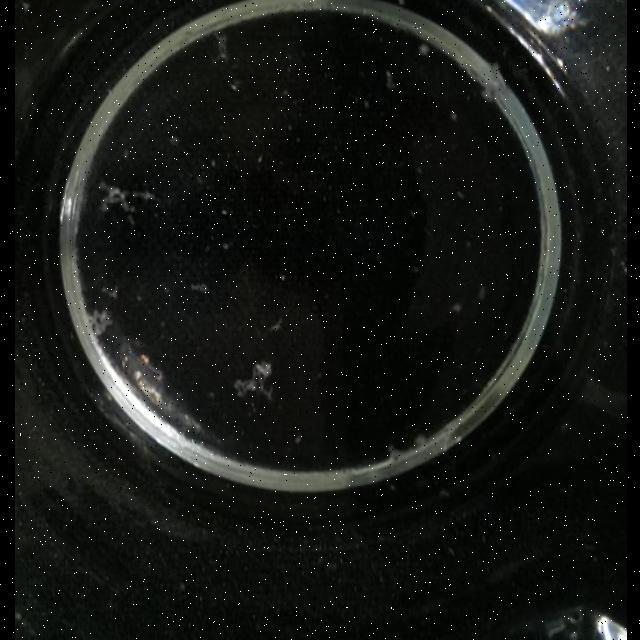Fibre: (88, 284, 132, 344), (100, 180, 150, 216), (232, 360, 274, 402), (384, 70, 398, 90), (268, 316, 282, 332), (190, 282, 208, 294)
